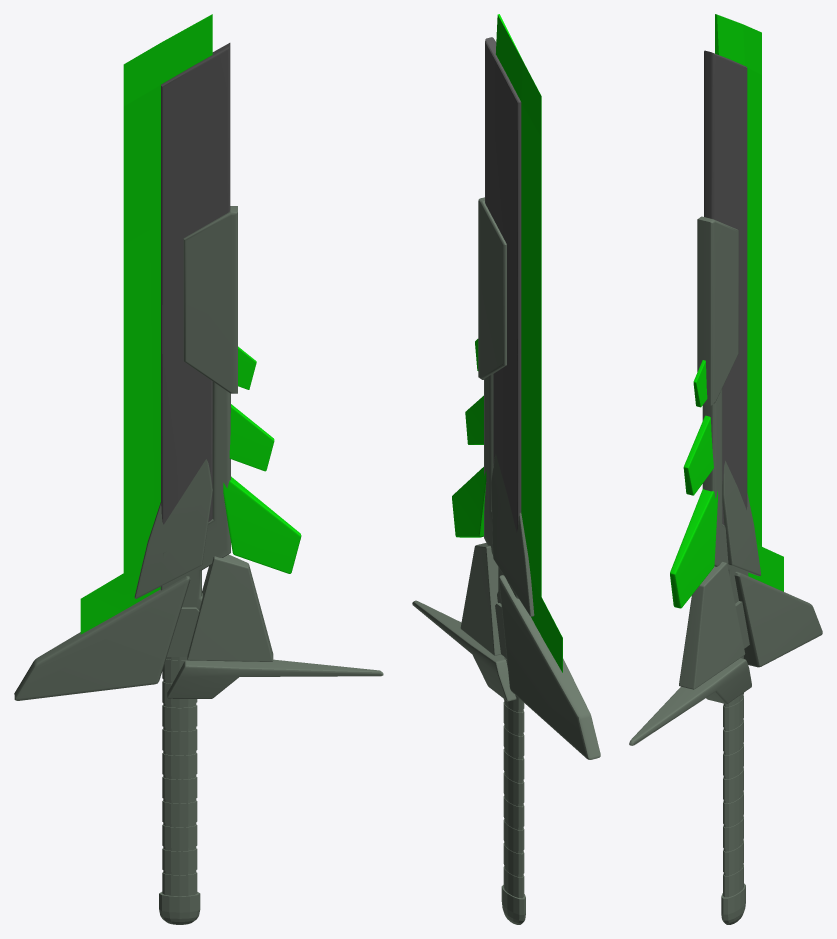
Rendered from BSword6.fbx.
3 renders of one model, left to right at view 1: azimuth 30°, elevation 25°; view 2: azimuth 150°, elevation 25°; view 3: azimuth 270°, elevation 25°, orthographic. The views are drawn at different scales.
Parts seen in each view (by area): view 1: Sharp, polySurface10, pCube1, Grip10, polySurface13, pCube4, pCube2, polySurface12, pCube5, pCube8, pCube6; view 2: Sharp, polySurface10, pCube1, Grip10, polySurface13, pCube2, pCube4, pCube8, polySurface12, pCube5, pCube6; view 3: polySurface10, Sharp, polySurface13, pCube4, pCube1, Grip10, pCube5, pCube8, polySurface12, pCube2, pCube6, pCube7.
Part boxes in pixels (box(x1,y1,x2,y2)): Sharp: box(80, 14, 212, 634); polySurface10: box(161, 43, 230, 524); pCube1: box(14, 576, 190, 700); Grip10: box(159, 657, 200, 924); polySurface13: box(183, 206, 237, 393); pCube4: box(187, 554, 273, 661); pCube2: box(134, 459, 212, 598); polySurface12: box(160, 381, 230, 656); pCube5: box(223, 476, 301, 573); pCube8: box(167, 659, 383, 698); pCube6: box(229, 404, 274, 471); Sharp: box(496, 14, 562, 672); polySurface10: box(485, 37, 521, 532); pCube1: box(499, 575, 600, 759); Grip10: box(501, 656, 525, 924); polySurface13: box(478, 197, 506, 379); pCube2: box(491, 453, 534, 616); pCube4: box(460, 543, 500, 655); pCube8: box(412, 600, 516, 701); polySurface12: box(484, 374, 518, 658); pCube5: box(452, 467, 486, 537); pCube6: box(465, 395, 483, 444); polySurface10: box(704, 50, 747, 524); Sharp: box(715, 14, 783, 591); polySurface13: box(697, 216, 738, 405); pCube4: box(679, 562, 745, 689); pCube1: box(734, 571, 822, 667); Grip10: box(721, 656, 745, 924); pCube5: box(670, 489, 717, 608); pCube8: box(629, 658, 751, 745); polySurface12: box(702, 388, 749, 648); pCube2: box(722, 461, 761, 576); pCube6: box(683, 415, 713, 495); pCube7: box(693, 360, 707, 407).
Size of the model in its own units: 2.85 by 8.87 by 1.69.
